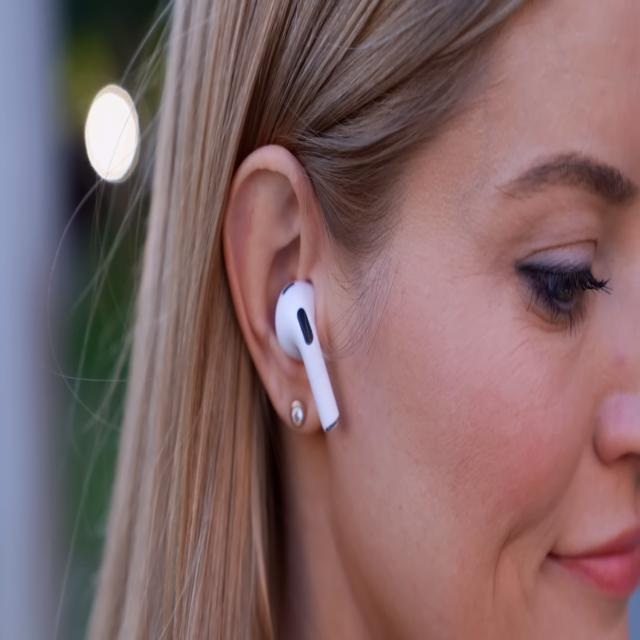airpods: (274, 276, 341, 438)
